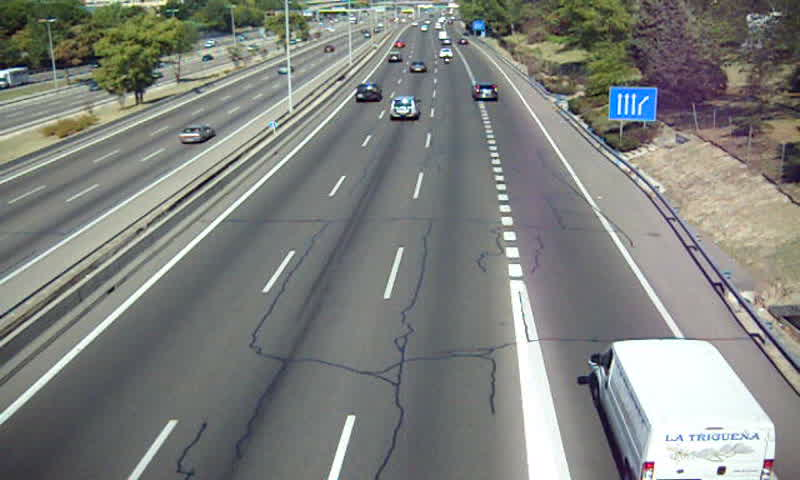car: (388, 96, 422, 120), (356, 83, 382, 104), (473, 82, 500, 102), (408, 60, 428, 75)
van: (589, 340, 776, 480)
